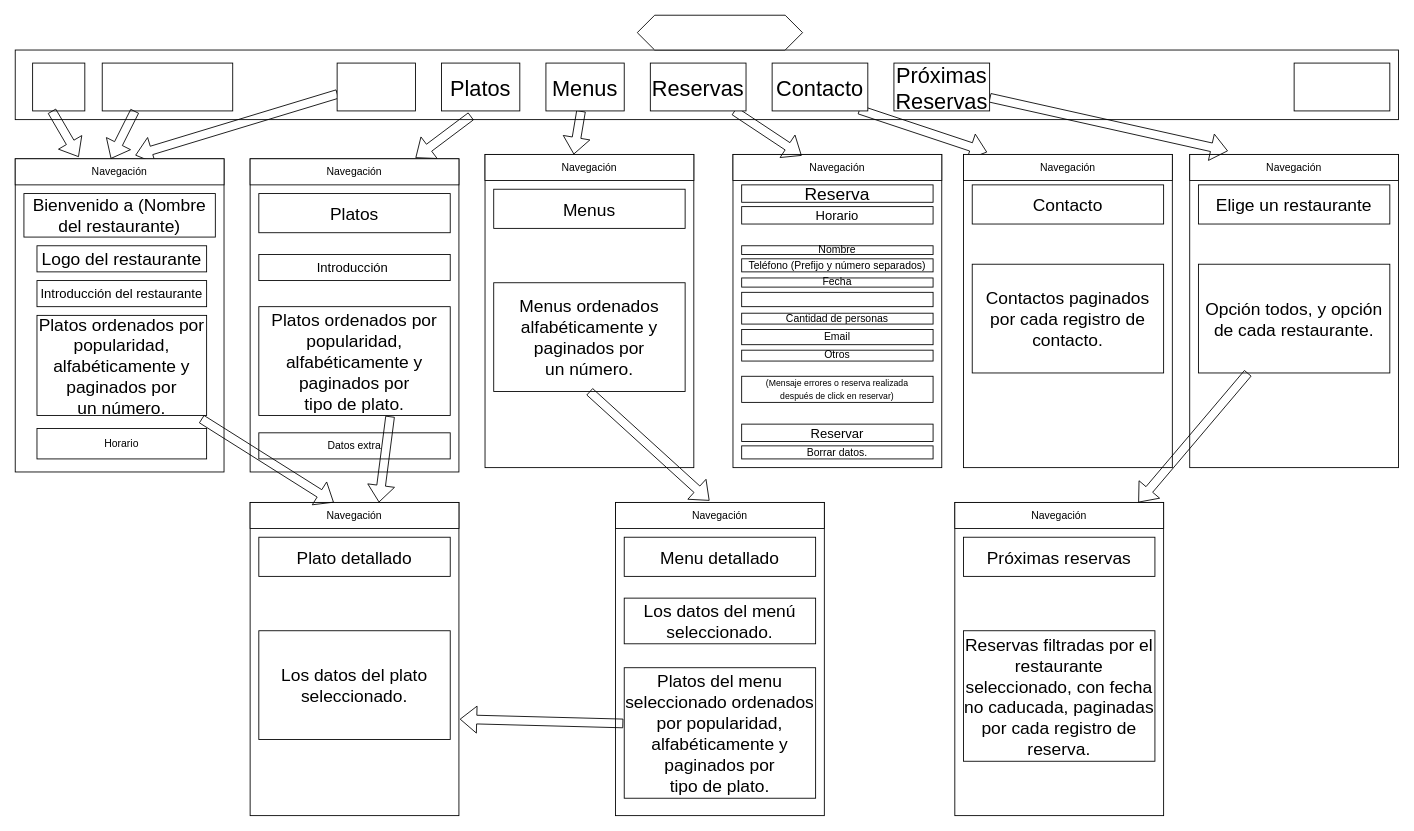
This 1414x831 diagram has some shape labels left out. The centre of each missing label's shape, as x and y in pixels:
"Buscar" belongs at point (1341, 86).
"Inicio" belongs at point (375, 86).
"Logo" belongs at point (58, 86).
"Nombre Restaurante" belongs at point (167, 86).
"Restaurante" belongs at point (837, 299).
"´Navegación" belongs at point (719, 32).
